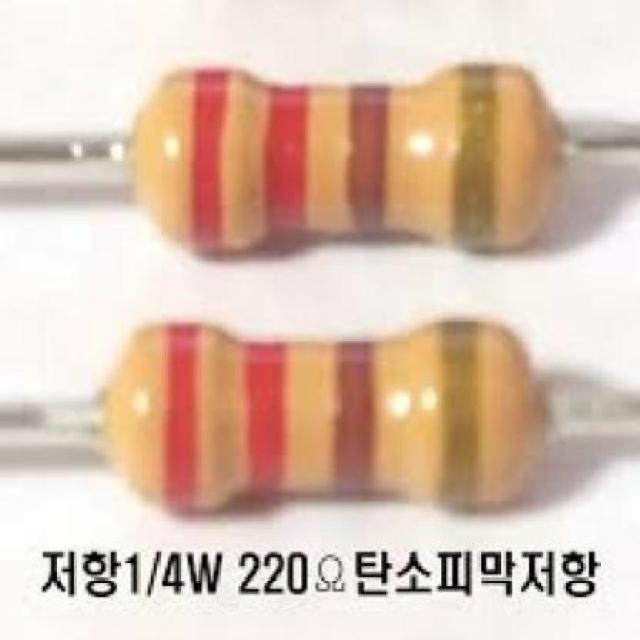Resistor: (106, 319, 541, 511), (136, 64, 560, 252)
